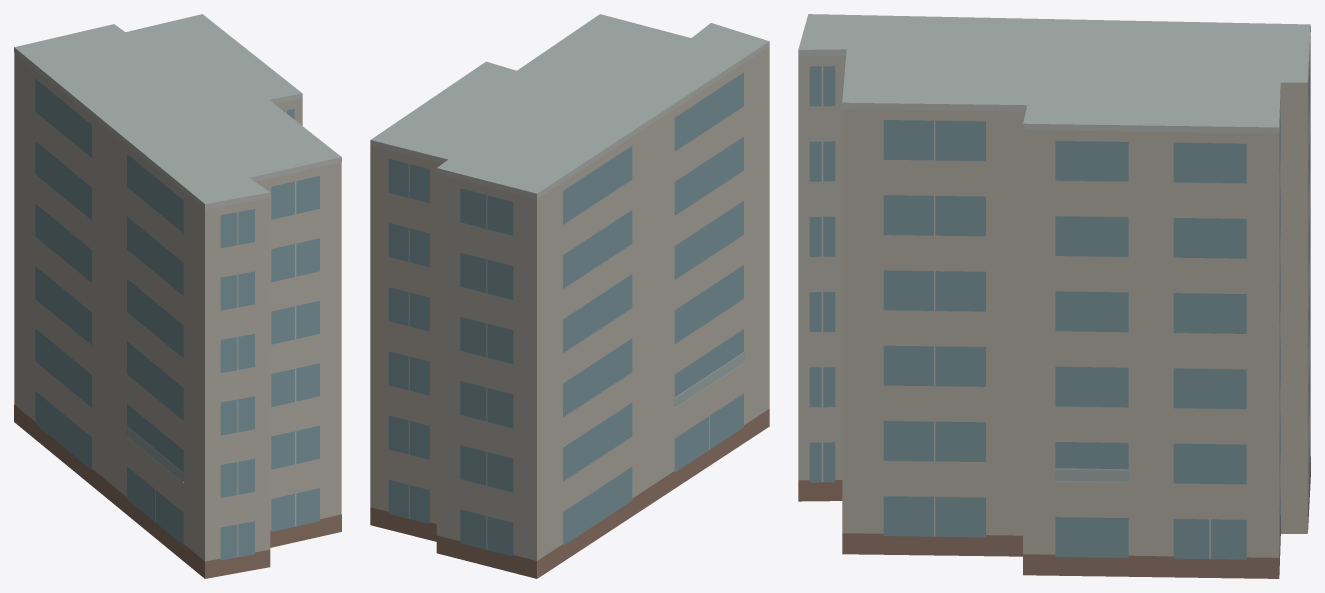
File: survey-upis-32576277.glb
The picture shows the model from 3 angles, left to right: view 1: azimuth 30°, elevation 25°; view 2: azimuth 150°, elevation 25°; view 3: azimuth 270°, elevation 25°; orthographic projection. The views are drawn at different scales.
Visible parts, largest first — view 1: survey-upis-32576277.tmp; view 2: survey-upis-32576277.tmp; view 3: survey-upis-32576277.tmp.
Part boxes in pixels (x1,y1,x2,y2): survey-upis-32576277.tmp: [14, 14, 341, 578]; survey-upis-32576277.tmp: [370, 14, 769, 578]; survey-upis-32576277.tmp: [798, 14, 1310, 578].
Bounding box in the file's own units: 9.44 × 17.5 × 18.02.
